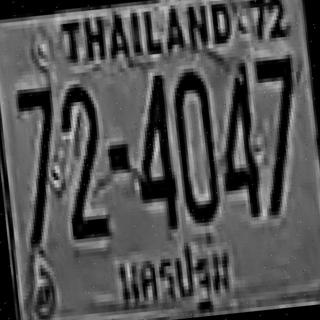N00: (170, 67, 220, 220)
N02: (55, 80, 110, 238)
N04: (127, 71, 179, 229), (210, 59, 260, 216)
N07: (13, 83, 66, 244), (253, 54, 305, 212), (14, 83, 63, 226), (14, 85, 59, 192)
P28: (112, 232, 235, 320)
